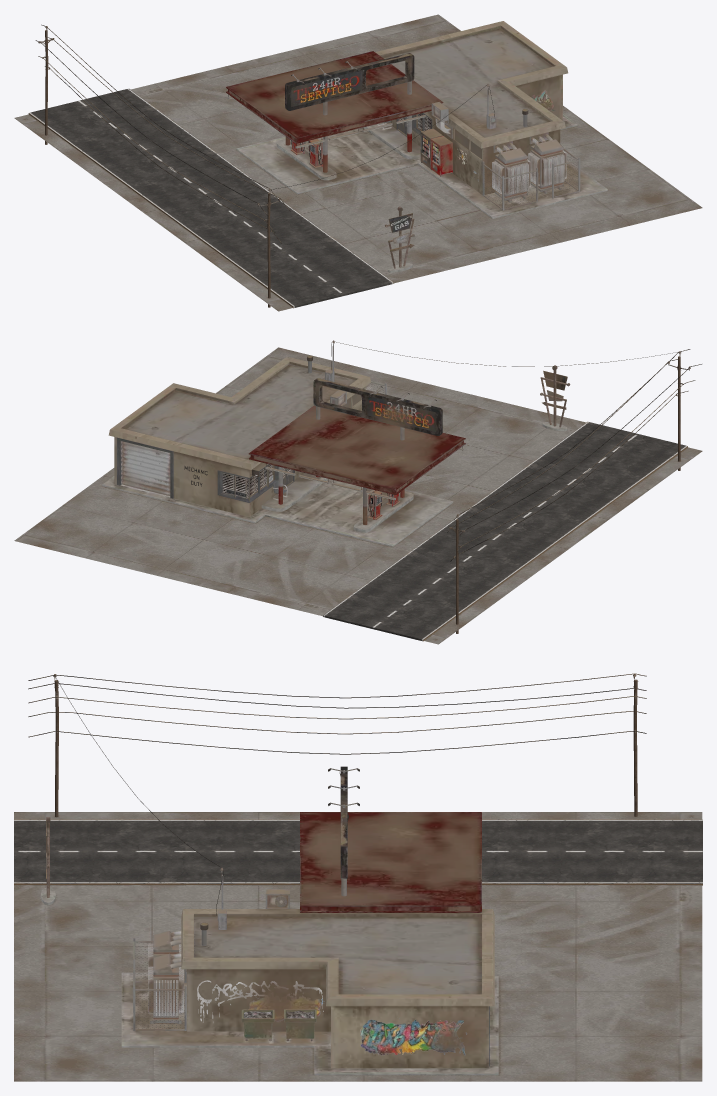
The model's file is posto_velho.glb.
The picture shows the model from 3 angles, top to bottom: view 1: azimuth 30°, elevation 25°; view 2: azimuth 150°, elevation 25°; view 3: azimuth 270°, elevation 25°; orthographic projection. The views are drawn at different scales.
Parts seen in each view (by area): view 1: GROUND_LOW_POLY, ROAD_LOW_POLY, STATION_LOW_POLY, ROOF_LOW_POLY_LOW_POLY, FLOOR_LOW_POLY, BILLBOARD_LOW_POLY, TEXT_LOW_POLY, BASE_LOW_POLY, CABLE_LOW_POLY, GENERATOR_FRIZE_LOW_POLY, GENERATOR_FRIZE_2_LOW_POLY, FENCE_LOW_POLY (+5 smaller); view 2: GROUND_LOW_POLY, ROAD_LOW_POLY, STATION_LOW_POLY, ROOF_LOW_POLY_LOW_POLY, FLOOR_LOW_POLY, GATE_LOW_POLY, BILLBOARD_LOW_POLY, BASE_LOW_POLY, TEXT_LOW_POLY, CABLE_LOW_POLY, WOOD_FRAME_LOW_POLY, JALOUSIE_LOW_POLY (+2 smaller); view 3: GROUND_LOW_POLY, STATION_LOW_POLY, ROAD_LOW_POLY, ROOF_LOW_POLY_LOW_POLY, FLOOR_LOW_POLY, TEXT_LOW_POLY, CABLE_LOW_POLY, GENERATOR_2_LOW_POLY, GENERATOR_FRIZE_2_LOW_POLY, TRASH_1_LOW_POLY, TRASH_2_LOW_POLY, BILLBOARD_LOW_POLY (+1 smaller).
Part boxes in pixels (x1,y1,x2,y2): GROUND_LOW_POLY: (14, 14, 702, 311); ROAD_LOW_POLY: (28, 88, 393, 308); STATION_LOW_POLY: (375, 21, 568, 194); ROOF_LOW_POLY_LOW_POLY: (226, 51, 443, 143); FLOOR_LOW_POLY: (236, 114, 607, 218); BILLBOARD_LOW_POLY: (285, 53, 414, 110); TEXT_LOW_POLY: (291, 70, 555, 181); BASE_LOW_POLY: (276, 122, 420, 272); CABLE_LOW_POLY: (35, 24, 290, 243); GENERATOR_FRIZE_LOW_POLY: (492, 159, 530, 194); GENERATOR_FRIZE_2_LOW_POLY: (528, 150, 566, 186); FENCE_LOW_POLY: (482, 149, 580, 210); GROUND_LOW_POLY: (14, 347, 702, 644); ROAD_LOW_POLY: (323, 421, 687, 641); STATION_LOW_POLY: (108, 356, 371, 516); ROOF_LOW_POLY_LOW_POLY: (248, 405, 465, 494); FLOOR_LOW_POLY: (102, 469, 453, 547); GATE_LOW_POLY: (121, 441, 170, 495); BILLBOARD_LOW_POLY: (313, 378, 442, 435); BASE_LOW_POLY: (261, 422, 567, 532); TEXT_LOW_POLY: (184, 395, 436, 497); CABLE_LOW_POLY: (447, 349, 701, 561); WOOD_FRAME_LOW_POLY: (117, 437, 294, 502); JALOUSIE_LOW_POLY: (222, 464, 291, 498); GROUND_LOW_POLY: (14, 812, 702, 1081); STATION_LOW_POLY: (181, 909, 494, 1068); ROAD_LOW_POLY: (14, 819, 702, 885); ROOF_LOW_POLY_LOW_POLY: (300, 812, 481, 912); FLOOR_LOW_POLY: (121, 972, 498, 1075); TEXT_LOW_POLY: (197, 772, 467, 1055); CABLE_LOW_POLY: (28, 673, 646, 754); GENERATOR_2_LOW_POLY: (153, 953, 186, 1022); GENERATOR_FRIZE_2_LOW_POLY: (148, 966, 183, 1015); TRASH_1_LOW_POLY: (241, 1009, 274, 1040); TRASH_2_LOW_POLY: (284, 1009, 316, 1040); BILLBOARD_LOW_POLY: (340, 766, 347, 878).
Bounding box in the file's own units: 2581 × 681 × 2754.
4 materials, 4 textured.
